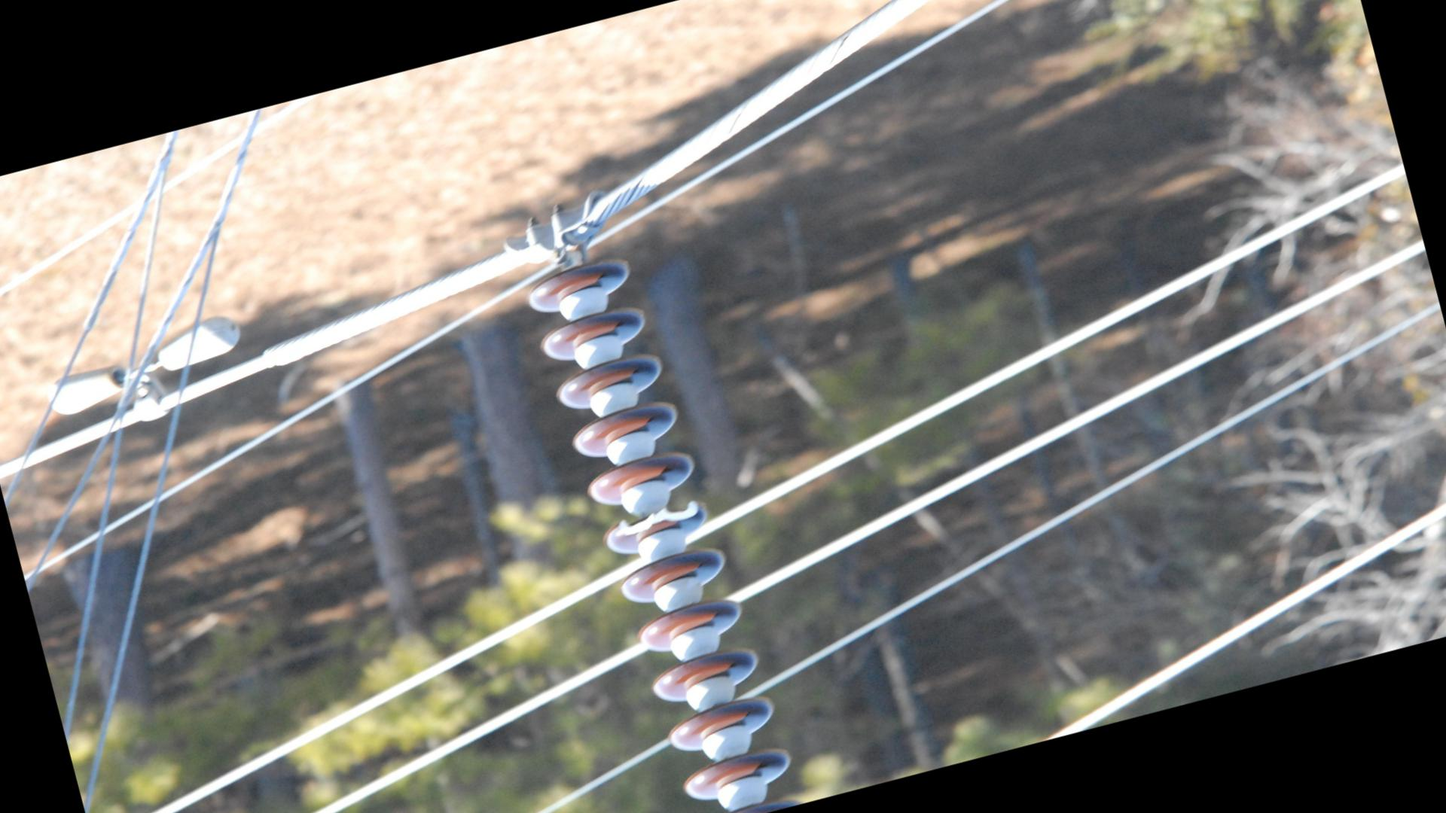damper: (29, 304, 263, 452)
